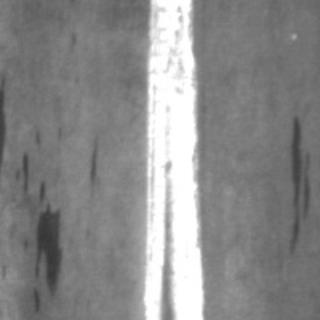inclusion: (29, 178, 61, 300), (286, 112, 310, 248), (82, 132, 104, 190)
scratches: (138, 0, 202, 316)
